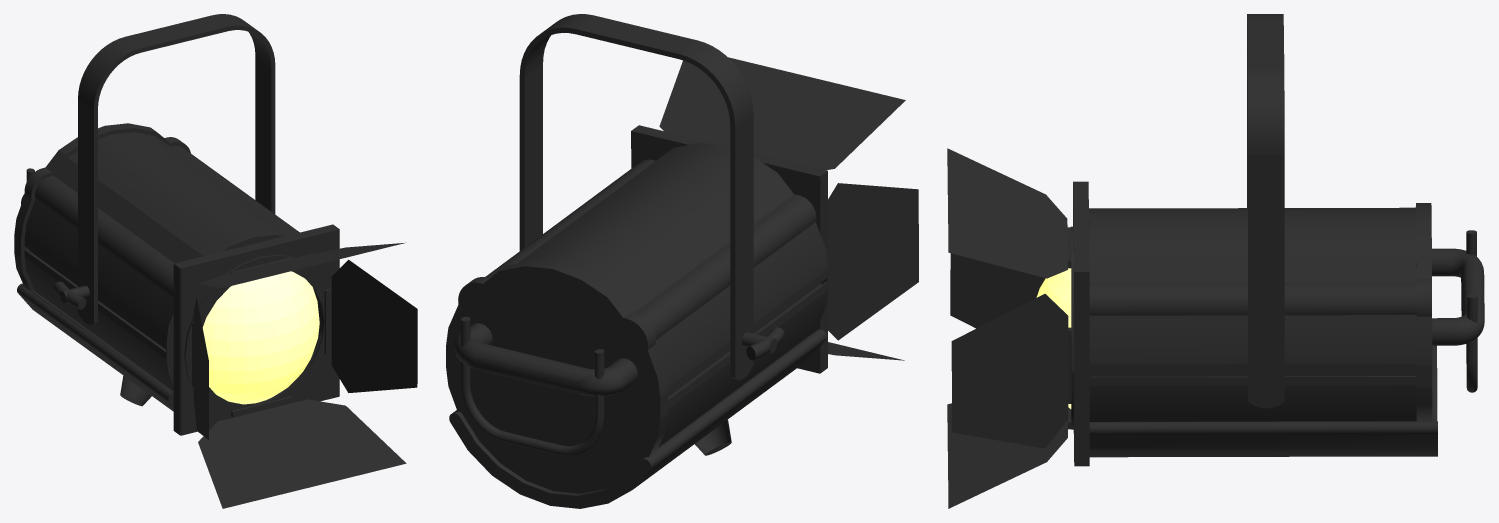
Rendered from fresnel.glb.
The picture shows the model from 3 angles, left to right: view 1: azimuth 30°, elevation 25°; view 2: azimuth 150°, elevation 25°; view 3: azimuth 270°, elevation 25°; orthographic projection. The views are drawn at different scales.
Parts seen in each view (by area): view 1: Touched_Plastic_Rough-material, Bulb_Emmision_Light-material; view 2: Touched_Plastic_Rough-material; view 3: Touched_Plastic_Rough-material, Bulb_Emmision_Light-material.
Boxes of the visible parts, x1,y1,x2,y2 form: Touched_Plastic_Rough-material: (14, 14, 417, 508); Bulb_Emmision_Light-material: (202, 271, 319, 404); Touched_Plastic_Rough-material: (446, 14, 918, 508); Touched_Plastic_Rough-material: (947, 14, 1484, 508); Bulb_Emmision_Light-material: (1036, 268, 1071, 408).
Size of the model in its own units: 0.3265 by 0.5017 by 0.5938.
